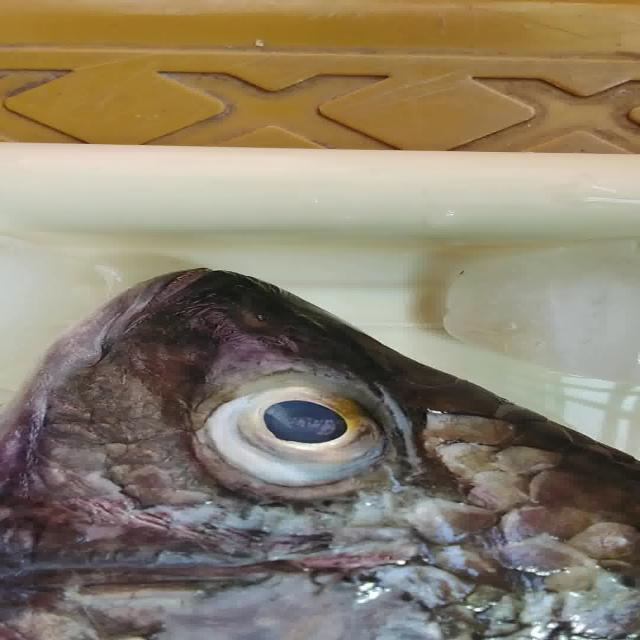Fresh: (124, 365, 502, 511)
